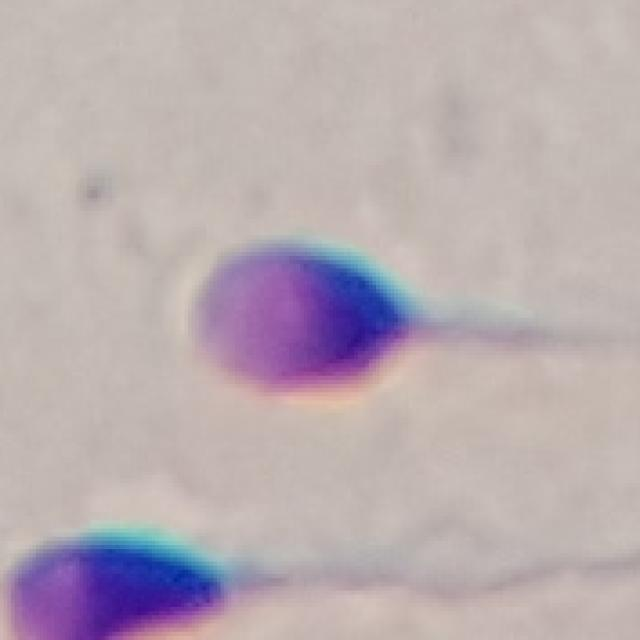normal sperm: (185, 244, 491, 399), (4, 530, 327, 639)
